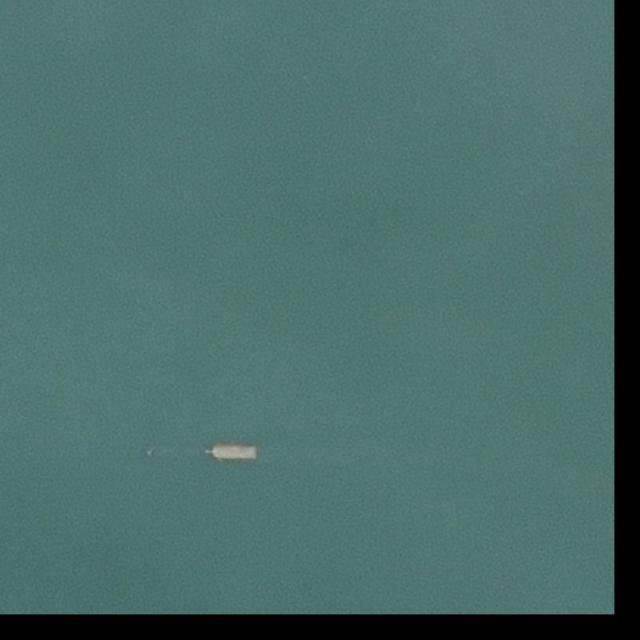ship: (205, 445, 258, 460), (146, 451, 153, 457)
